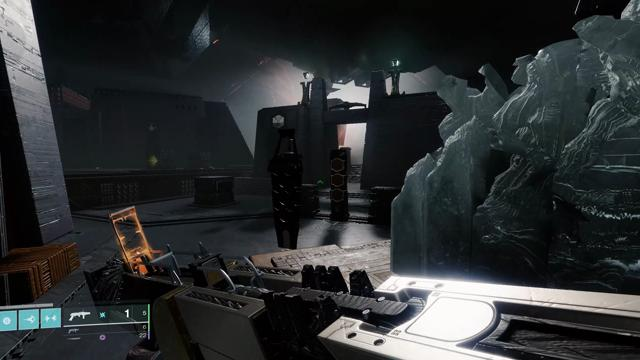commune: (272, 115, 284, 128)
drink: (146, 121, 157, 131)
